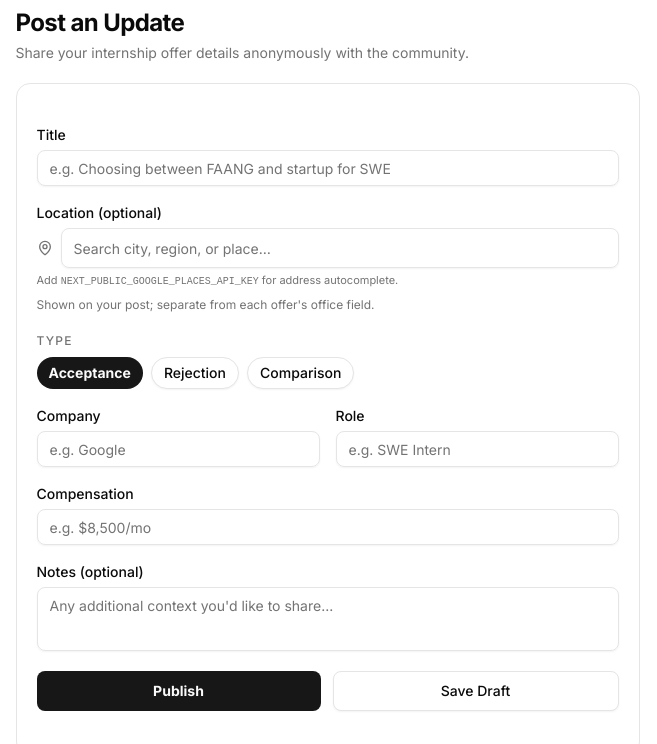
Test: SubmitOfferForm › Comparison type requires at least 2 offers
Type "My Comparison" into the field labelled "Title" at (328, 168), box [36,150,618,186]
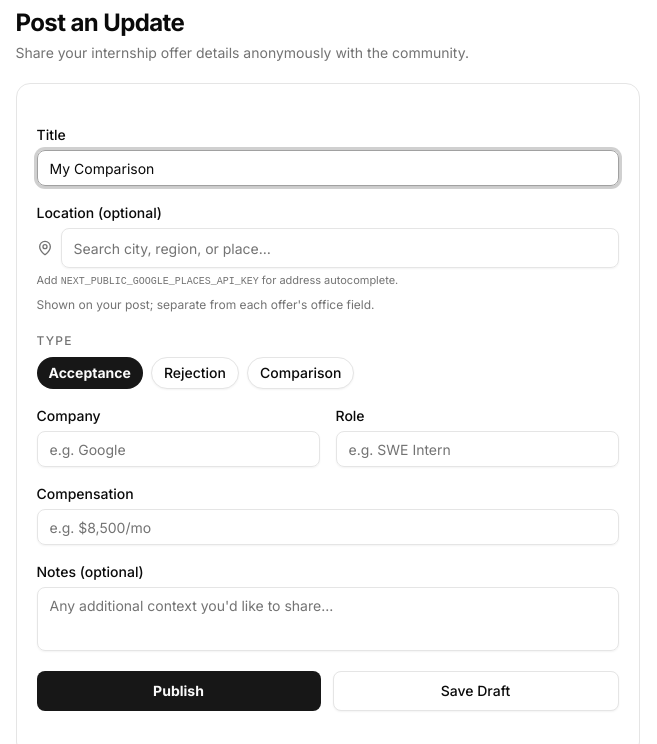
Click the button "Comparison" at (301, 373), box [247,357,354,389]
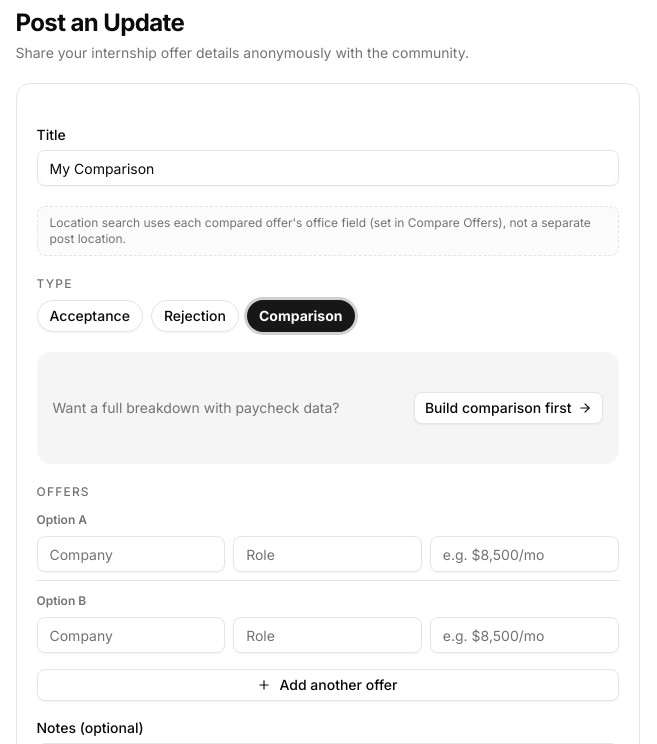
Type "Google" into the 1st field with placeholder "Company" at (131, 554), box [36,536,225,572]
(page scrolled)
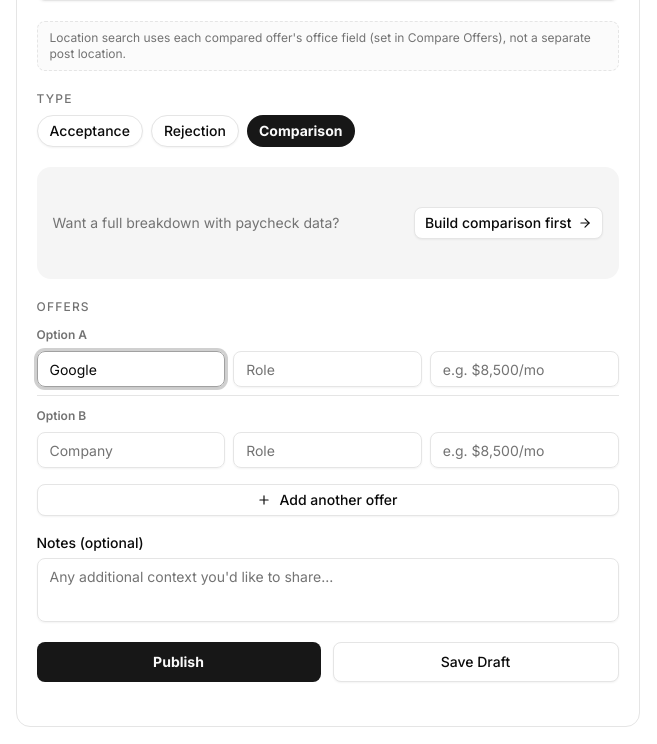
Click the button "Publish" at (178, 662), box [36,642,320,682]
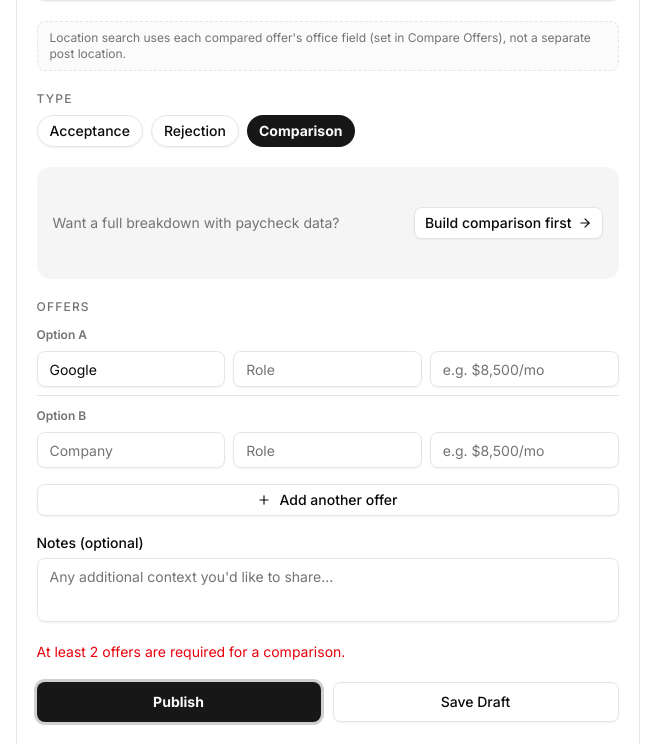
Check: the text "At least 2 offers are required for a comparison." is shown, box [36,643,345,660]
